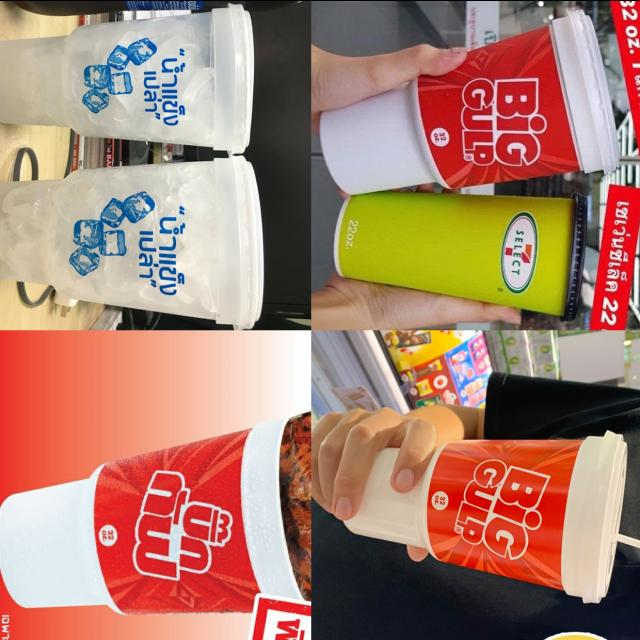plastik: (0, 418, 302, 613), (320, 9, 618, 194), (345, 430, 640, 602), (0, 155, 263, 328), (0, 4, 254, 153), (334, 191, 587, 320)
